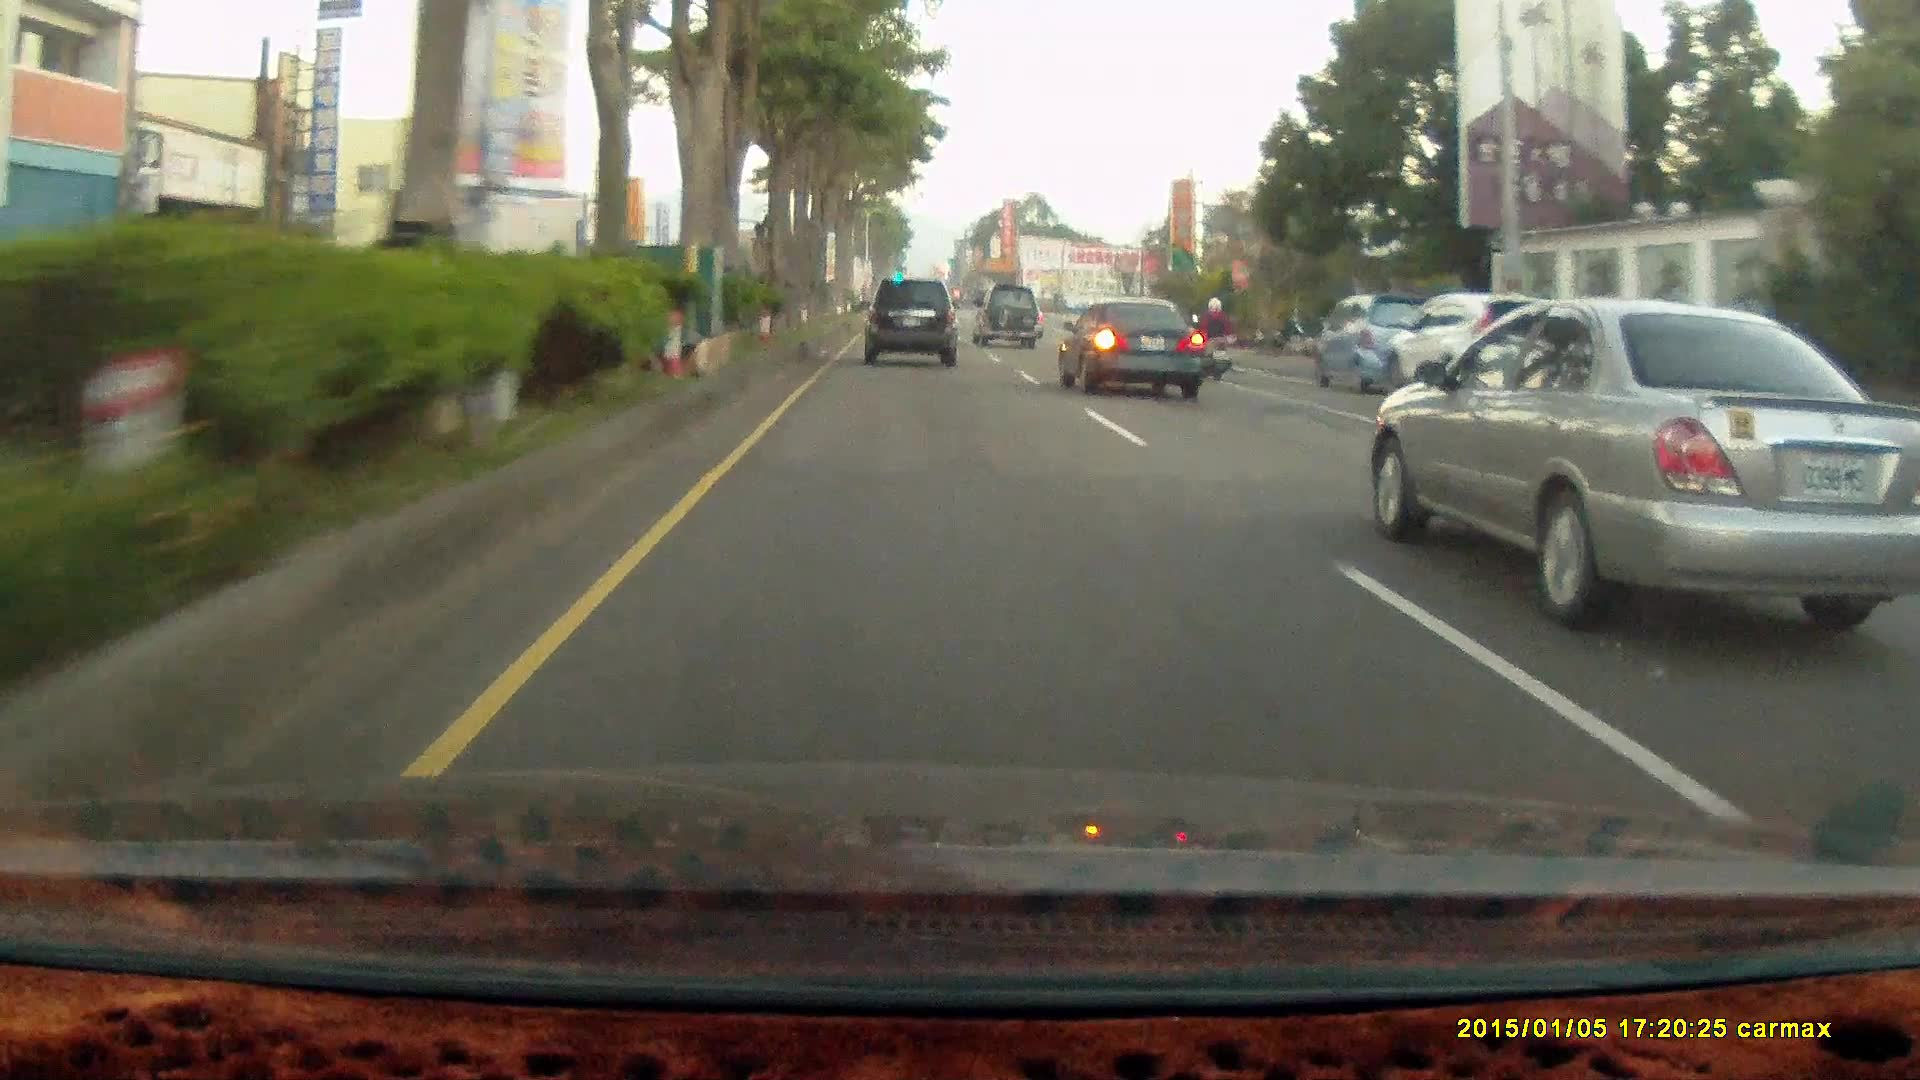rider: (1196, 296, 1237, 382), (1195, 294, 1236, 380)
vehicle: (1370, 299, 1920, 620), (1381, 291, 1568, 400), (1056, 294, 1205, 394), (1060, 293, 1209, 388), (1312, 293, 1452, 391), (861, 272, 965, 368), (860, 277, 958, 365), (973, 285, 1045, 351), (972, 283, 1041, 348)
